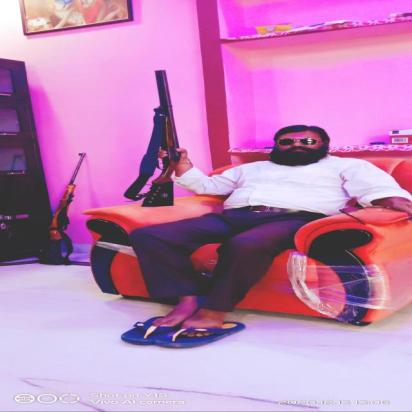Gun: (34, 152, 87, 266), (140, 69, 183, 208)
